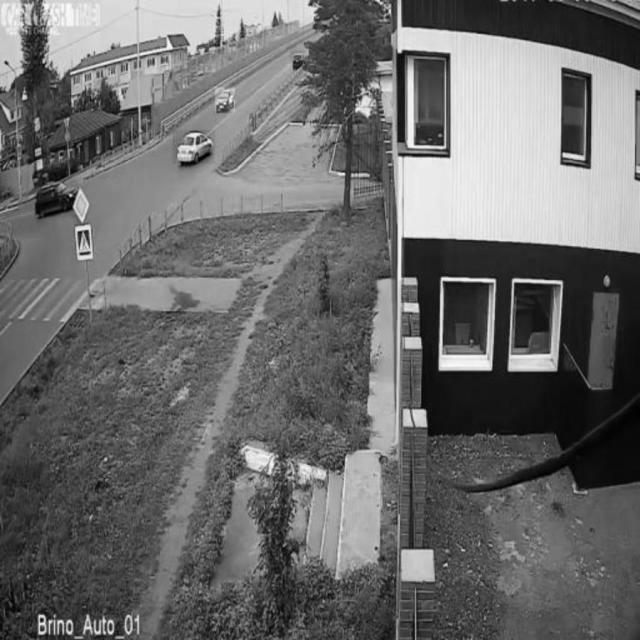vehicle: (34, 180, 79, 217), (173, 130, 215, 164), (214, 88, 234, 112), (290, 51, 307, 68)
